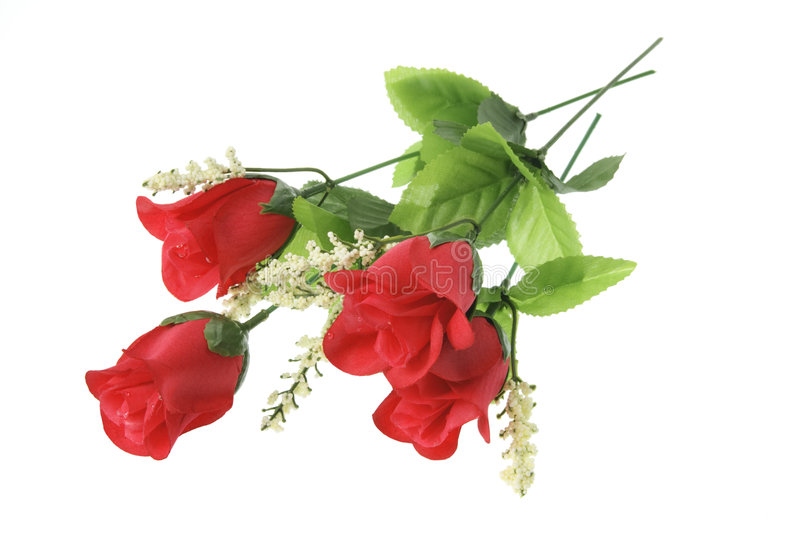RedRose: (322, 229, 516, 453), (115, 153, 308, 303), (91, 312, 259, 461)
